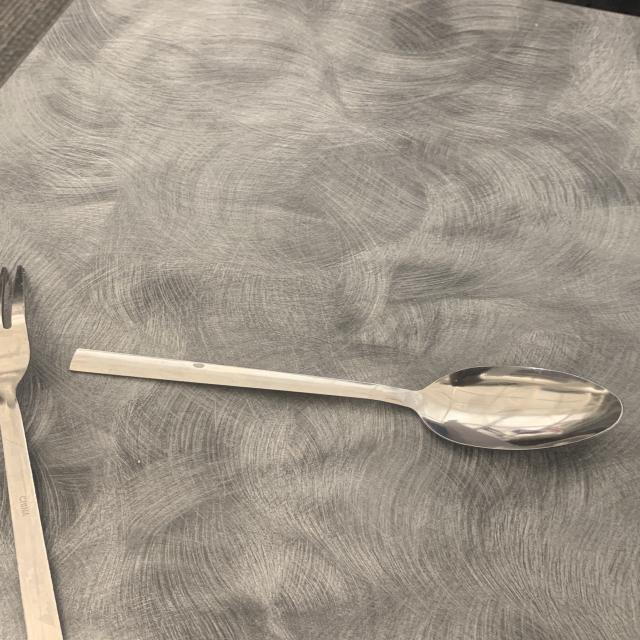spoon: (64, 328, 637, 476)
